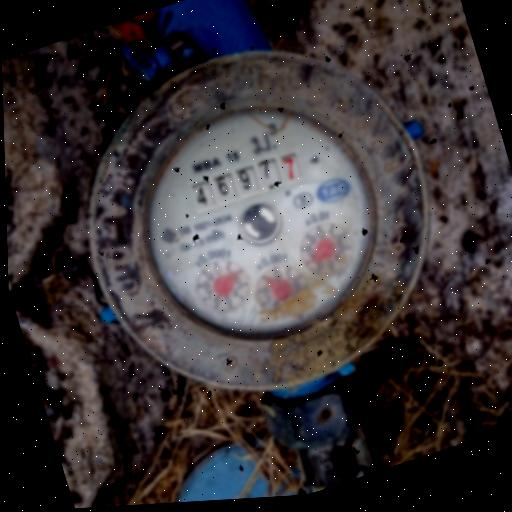4: (191, 180, 216, 210)
6: (214, 173, 239, 202)
7: (258, 158, 283, 188), (281, 151, 302, 180)
9: (235, 165, 257, 193)
border_water_meter_number: (181, 143, 311, 218)
